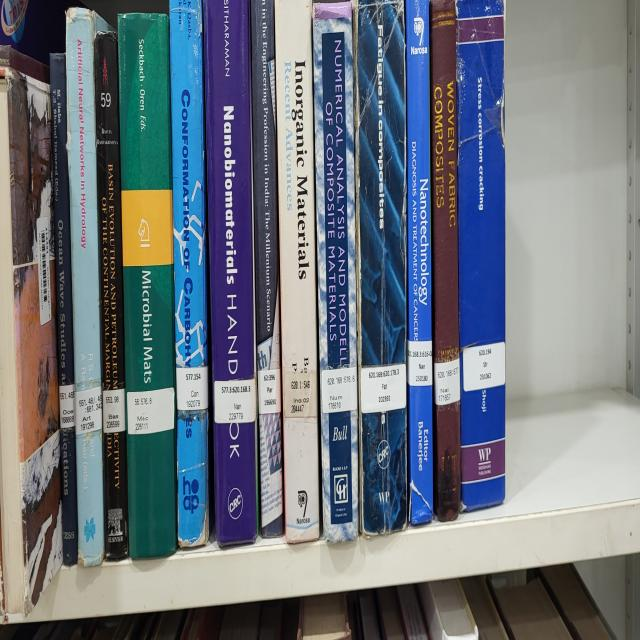Book: (118, 14, 176, 557), (205, 0, 258, 547), (355, 0, 408, 536), (455, 0, 505, 511), (312, 0, 359, 541), (275, 0, 320, 544), (66, 8, 108, 565), (170, 0, 209, 547), (94, 32, 129, 560), (251, 0, 284, 538), (430, 0, 461, 522), (405, 0, 434, 525), (50, 54, 78, 565)
Label: (360, 363, 406, 414), (128, 387, 175, 436), (462, 341, 505, 392), (214, 379, 256, 425), (321, 368, 358, 414), (284, 371, 318, 417), (176, 365, 209, 411), (75, 387, 102, 436), (434, 357, 460, 406), (408, 341, 432, 387), (102, 387, 125, 433), (258, 368, 281, 414), (59, 384, 75, 427)
